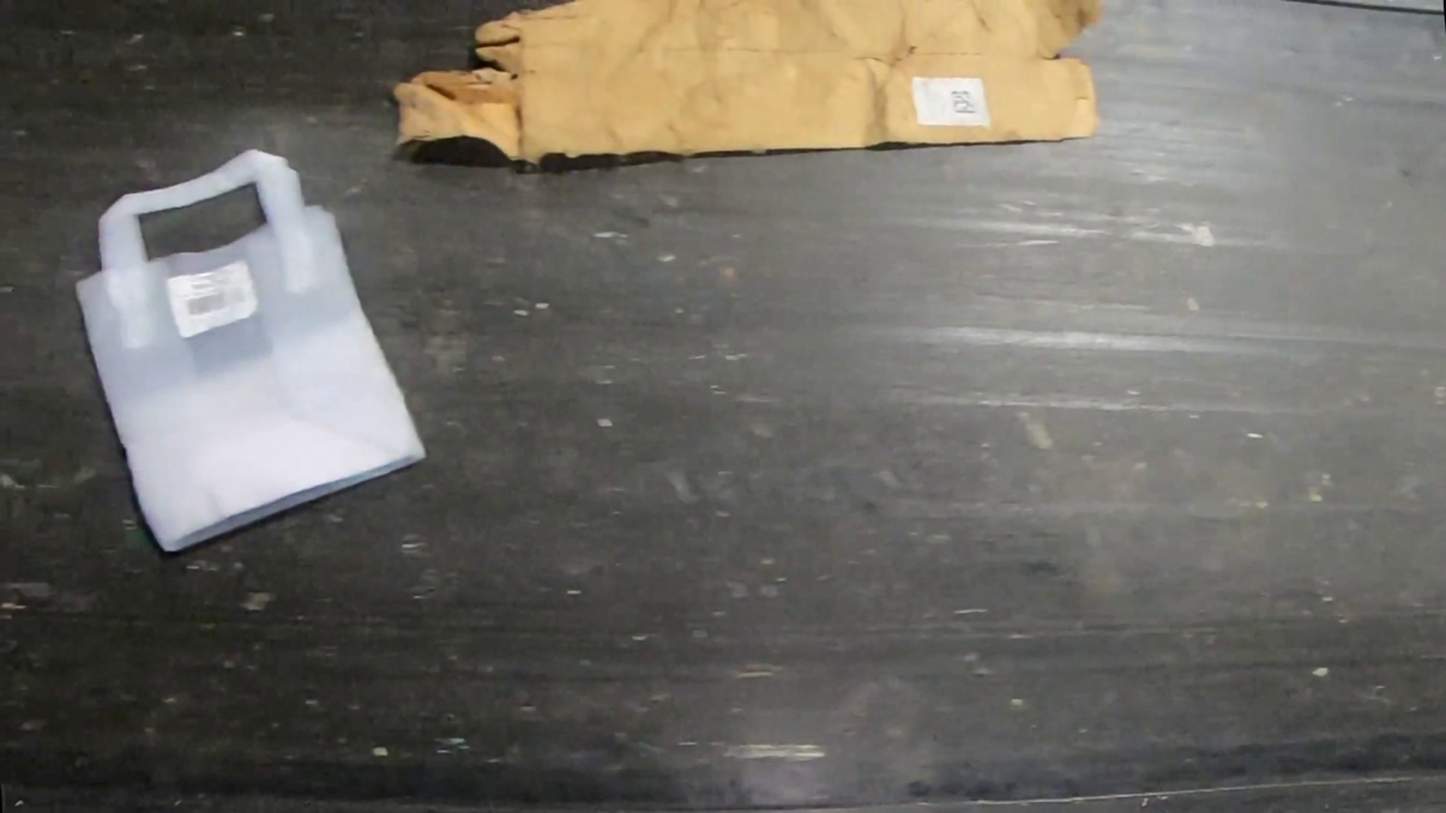cardboard: (394, 1, 1105, 165)
plastic: (73, 148, 430, 555)
